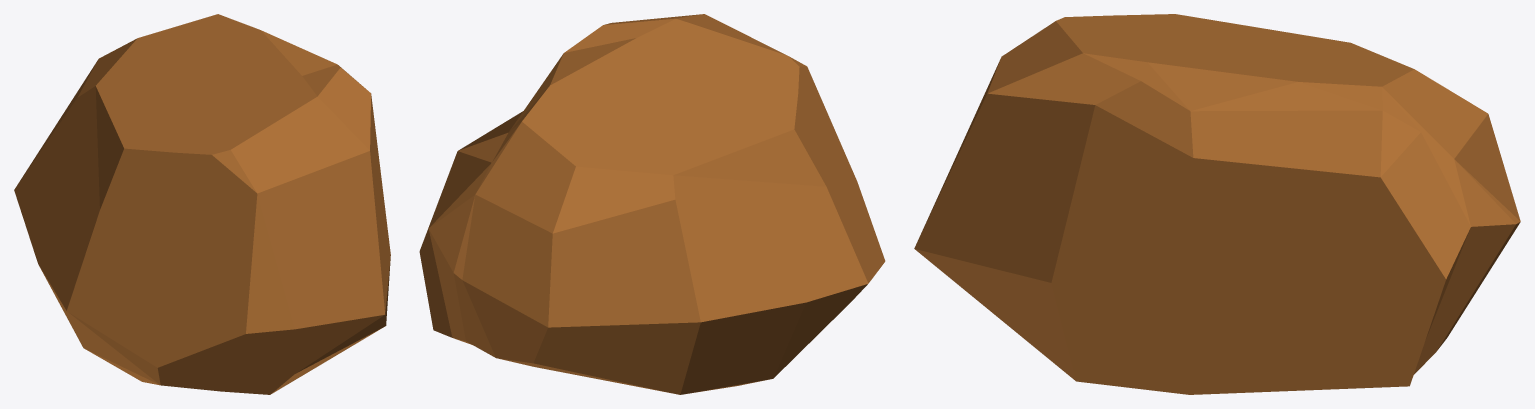
File: HardRock_33.fbx
3 renders of one model, left to right at view 1: azimuth 30°, elevation 25°; view 2: azimuth 150°, elevation 25°; view 3: azimuth 270°, elevation 25°, orthographic. The views are drawn at different scales.
Parts seen in each view (by area): view 1: HardRock_33; view 2: HardRock_33; view 3: HardRock_33.
Part boxes in pixels (x1,y1,x2,y2): HardRock_33: (14, 14, 390, 394); HardRock_33: (419, 14, 885, 394); HardRock_33: (914, 14, 1520, 394).
Bounding box in the file's own units: 84.75 × 72.5 × 116.
